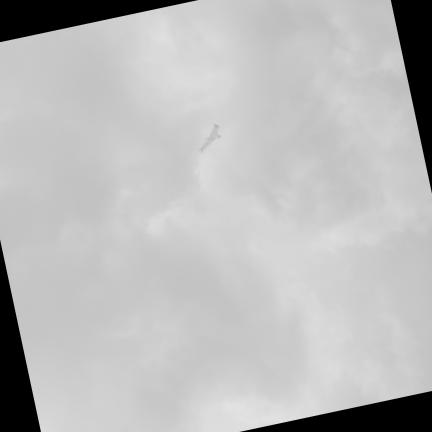Shahed: (200, 124, 220, 151)
